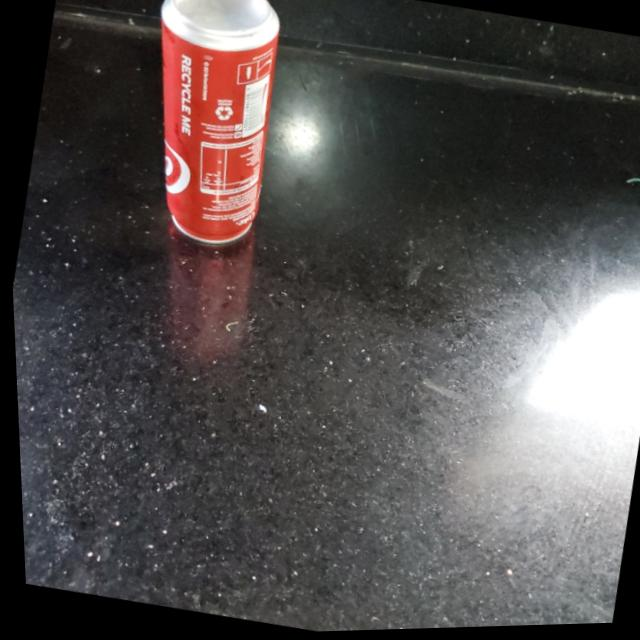coke: (114, 0, 296, 254)
